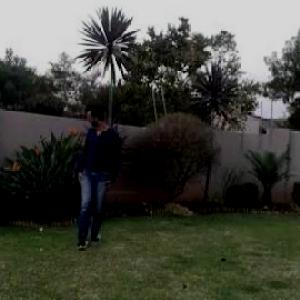follow: (69, 94, 123, 264)
